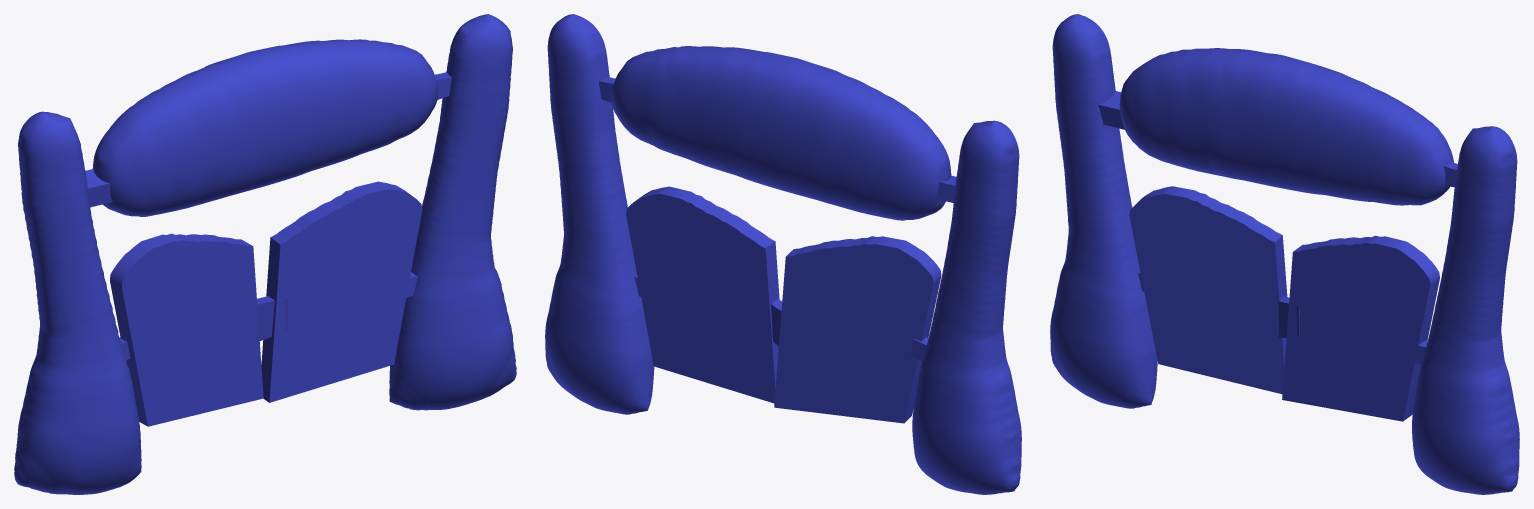
Rendered from portal.fbx.
3 views of the same model, side by side, from view 1: azimuth 30°, elevation 25°; view 2: azimuth 150°, elevation 25°; view 3: azimuth 330°, elevation 25° (orthographic). The views are drawn at different scales.
Visible parts, largest first — view 1: root (×7); view 2: root (×5); view 3: root (×6).
Boxes of the visible parts, x1=… form: root (×7): x1=14, y1=14, x2=516, y2=494; root (×5): x1=545, y1=14, x2=1021, y2=494; root (×6): x1=1050, y1=14, x2=1519, y2=494.
Bounding box in the file's own units: 0.7365 × 0.5735 × 0.1093.
